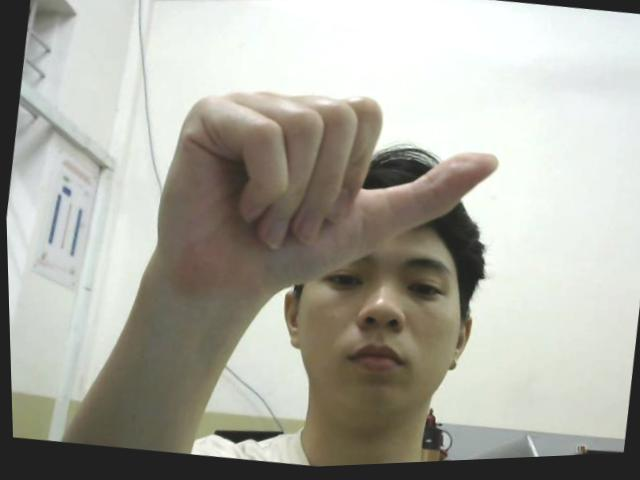A: (140, 66, 505, 334)
